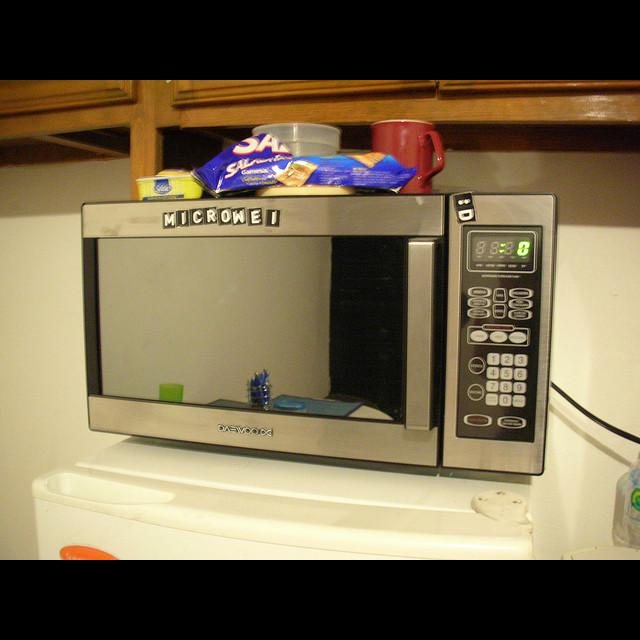Microwave: (73, 193, 565, 472)
